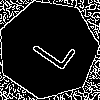L: (23, 24, 77, 73)
